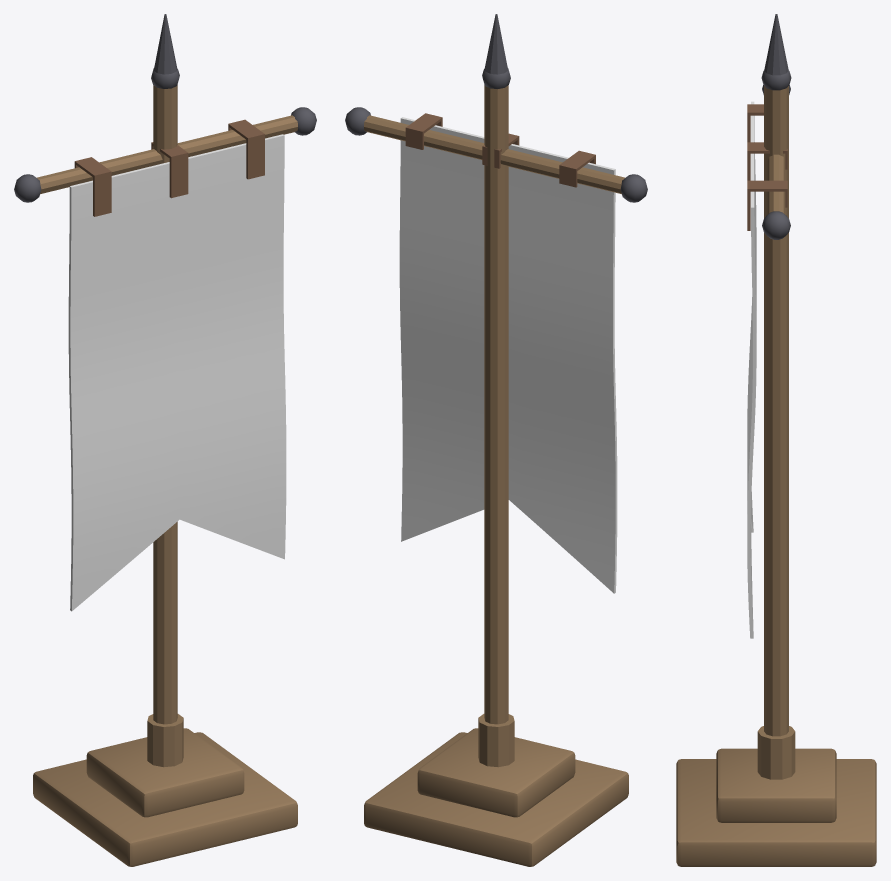
The model's file is banner_standing.glb.
The picture shows the model from 3 angles, left to right: view 1: azimuth 30°, elevation 25°; view 2: azimuth 150°, elevation 25°; view 3: azimuth 270°, elevation 25°; orthographic projection.
Visible parts, largest first — view 1: banner_standing; view 2: banner_standing; view 3: banner_standing.
Part boxes in pixels (<box>): banner_standing: <box>14,14,316,866</box>; banner_standing: <box>345,14,647,866</box>; banner_standing: <box>676,14,876,866</box>.
Bounding box in the file's own units: 1.4 × 3.58 × 0.8.
